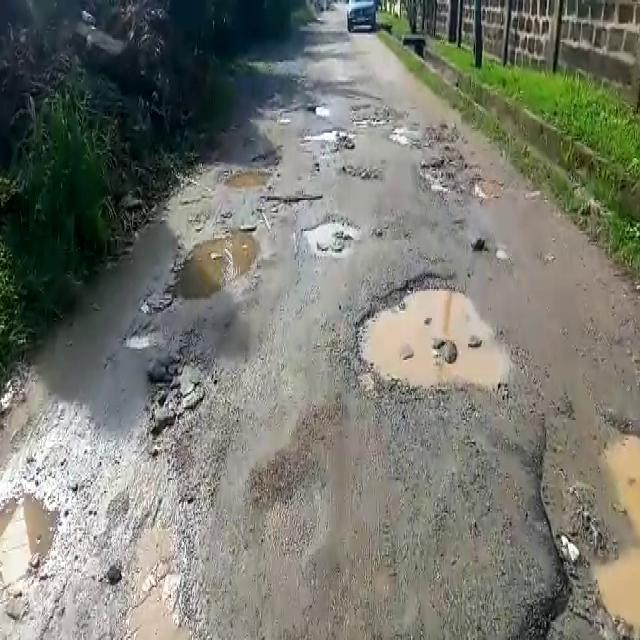pothole: (536, 405, 640, 640), (349, 269, 514, 401), (0, 484, 64, 608), (167, 221, 268, 289), (148, 354, 216, 454), (419, 143, 503, 203), (305, 216, 361, 259), (256, 192, 322, 213), (304, 125, 359, 150), (221, 169, 275, 193), (121, 325, 163, 350)
